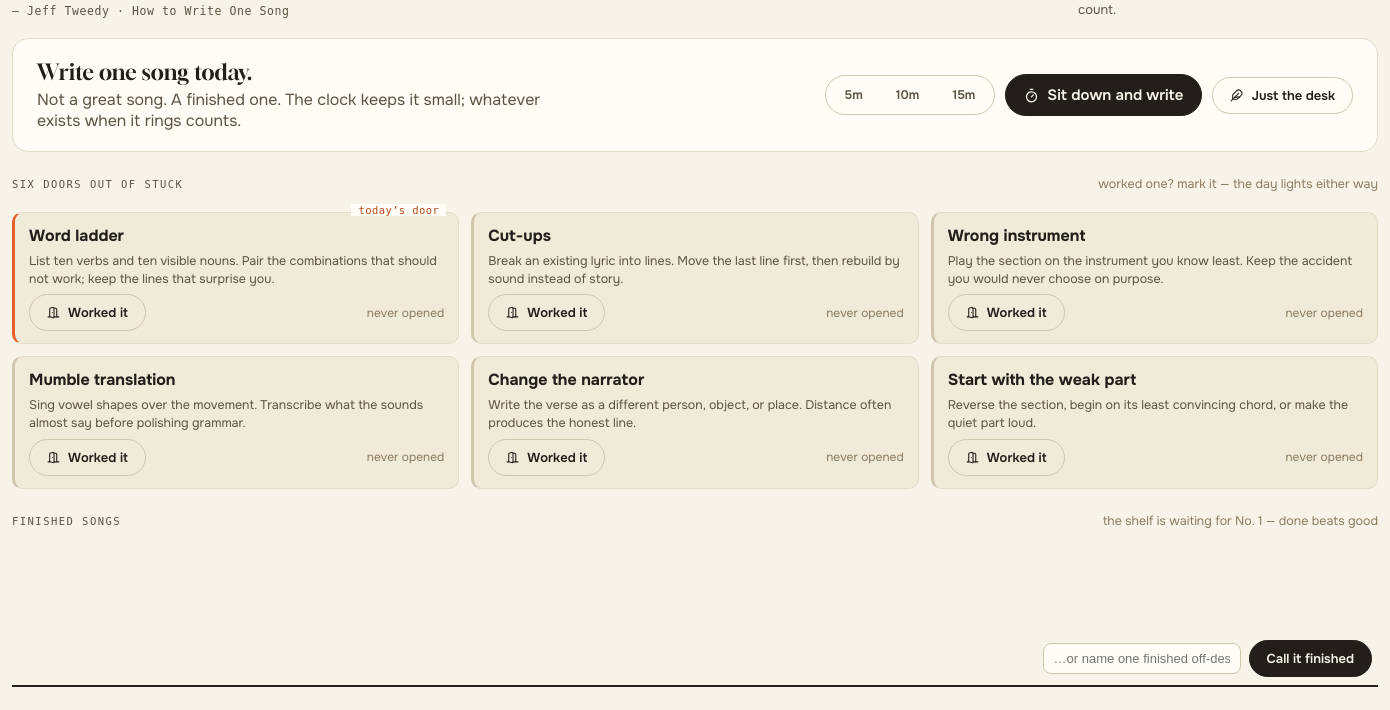
OneSong › finishing without a name asks for one instead of shelving a blank
This screenshot has width=1390, height=710.
Click the button "Call it finished": (1310, 658) [1249, 640, 1372, 676]
(page scrolled)
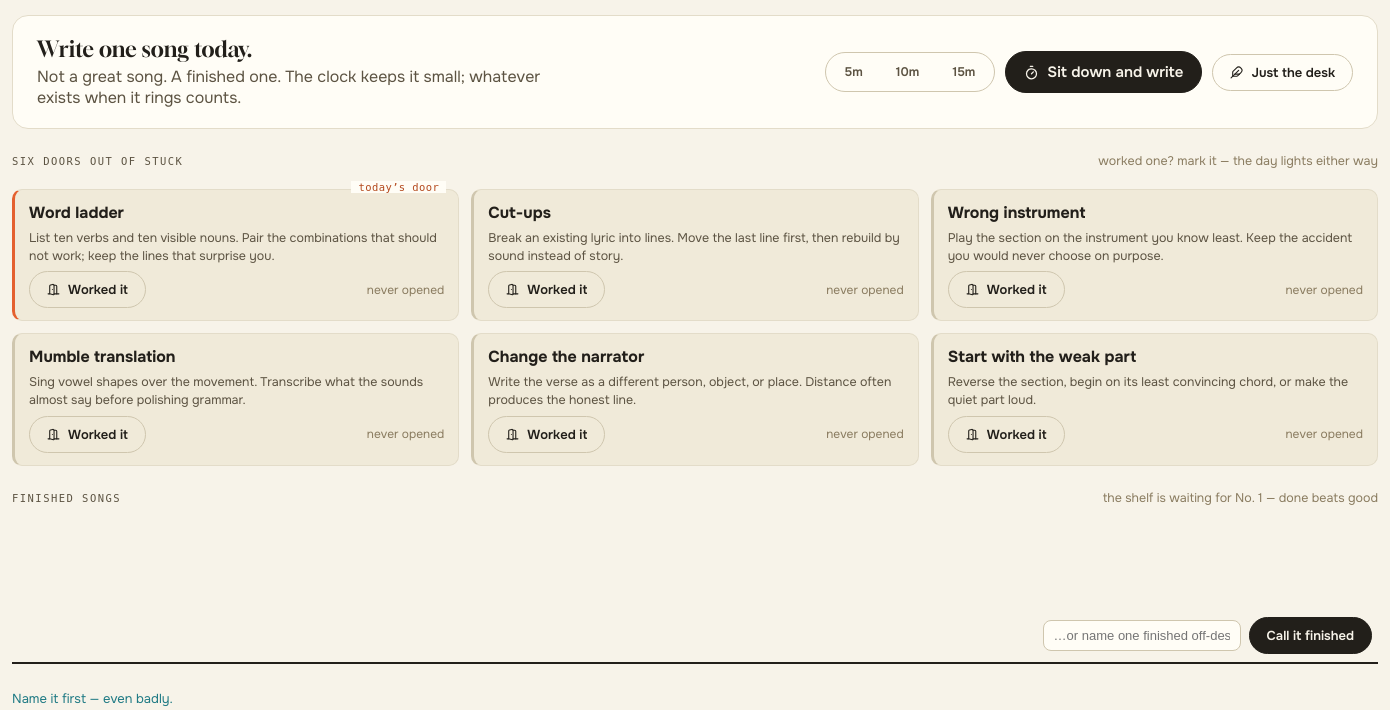
Expected: the text "Name it first — even badly." is shown, [12, 690, 173, 706]
